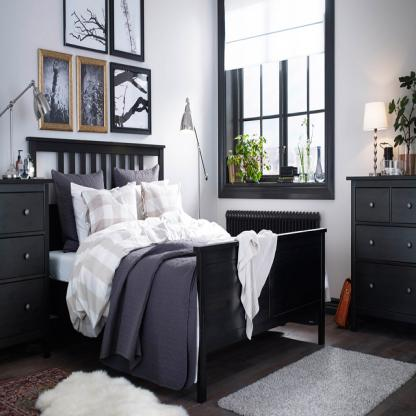Bed: (25, 134, 328, 404)
